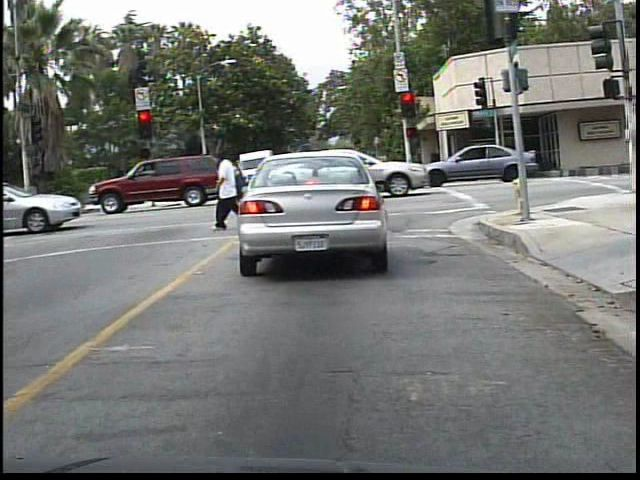person: (209, 147, 248, 233)
